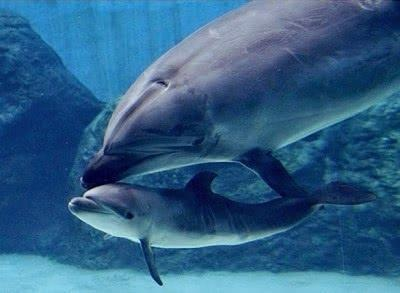fish: (80, 1, 400, 188), (67, 147, 376, 287)
